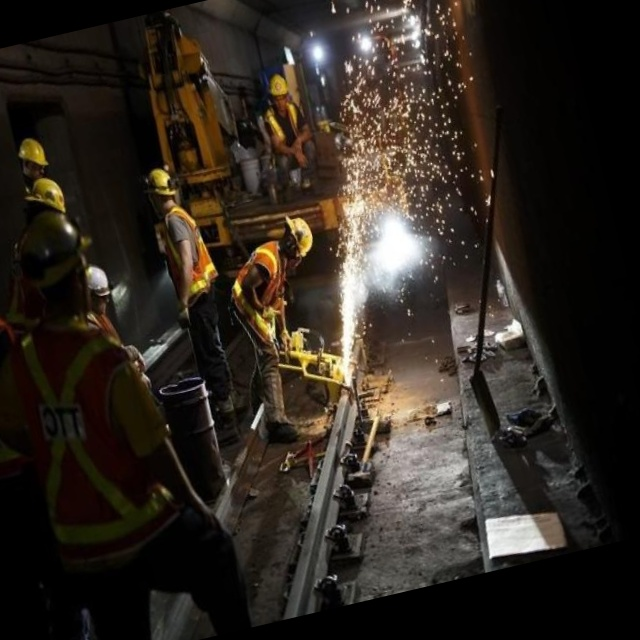Con_Casco: (279, 211, 319, 271), (140, 165, 179, 210), (15, 136, 52, 182)
Con_Chaleco: (223, 238, 305, 352), (152, 200, 219, 304), (262, 100, 310, 162)
